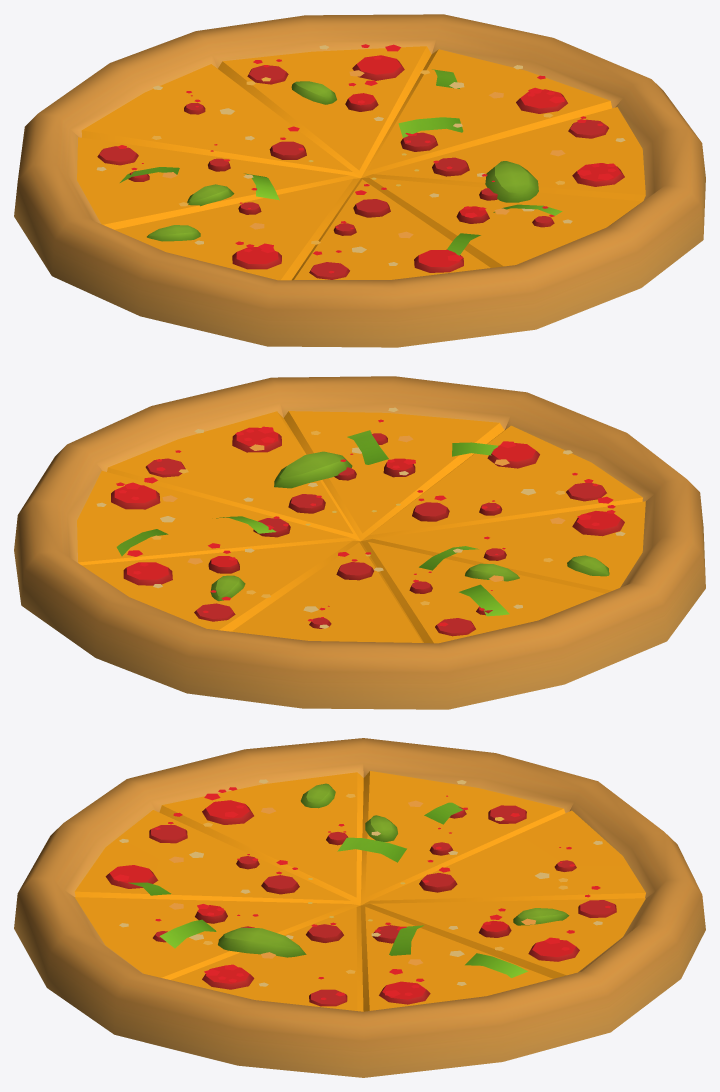
The model's file is Pizza_LV_4.glb.
3 renders of one model, top to bottom at view 1: azimuth 30°, elevation 25°; view 2: azimuth 150°, elevation 25°; view 3: azimuth 270°, elevation 25°, orthographic.
Parts seen in each view (by area): view 1: Pizza_LV_4; view 2: Pizza_LV_4; view 3: Pizza_LV_4.
Boxes of the visible parts, x1,y1,x2,y2 form: Pizza_LV_4: (14,14,705,347); Pizza_LV_4: (14,376,705,709); Pizza_LV_4: (14,738,705,1077).
Size of the model in its own units: 0.4218 by 0.0341 by 0.4149.
Materials: 1 (1 with a texture image).
